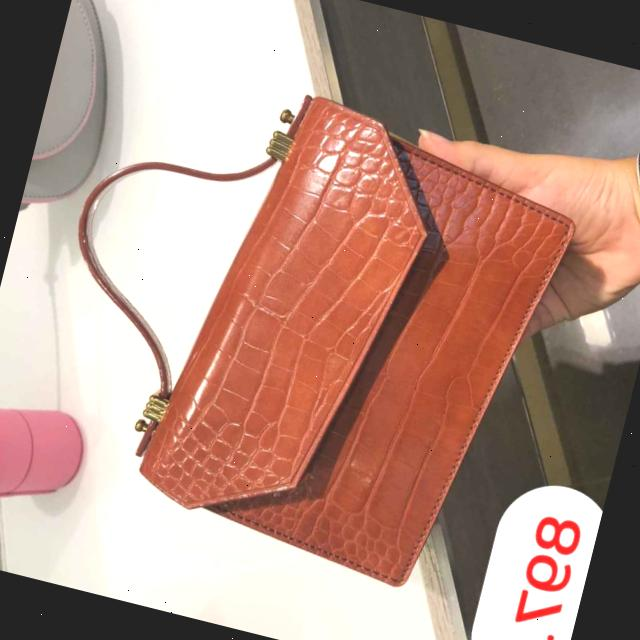Handbag: (0, 46, 592, 612)
